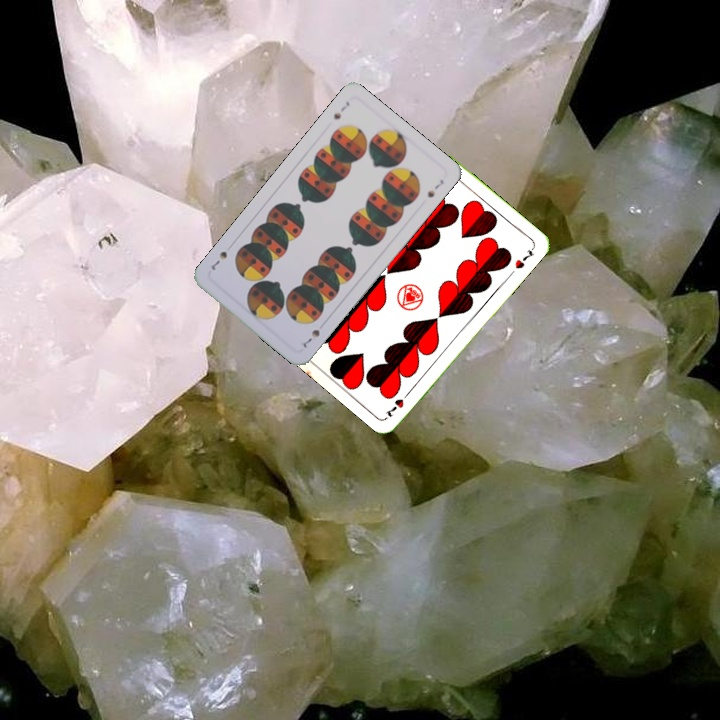H7: (381, 387, 413, 420)
S7: (299, 325, 323, 350), (329, 97, 352, 122)
